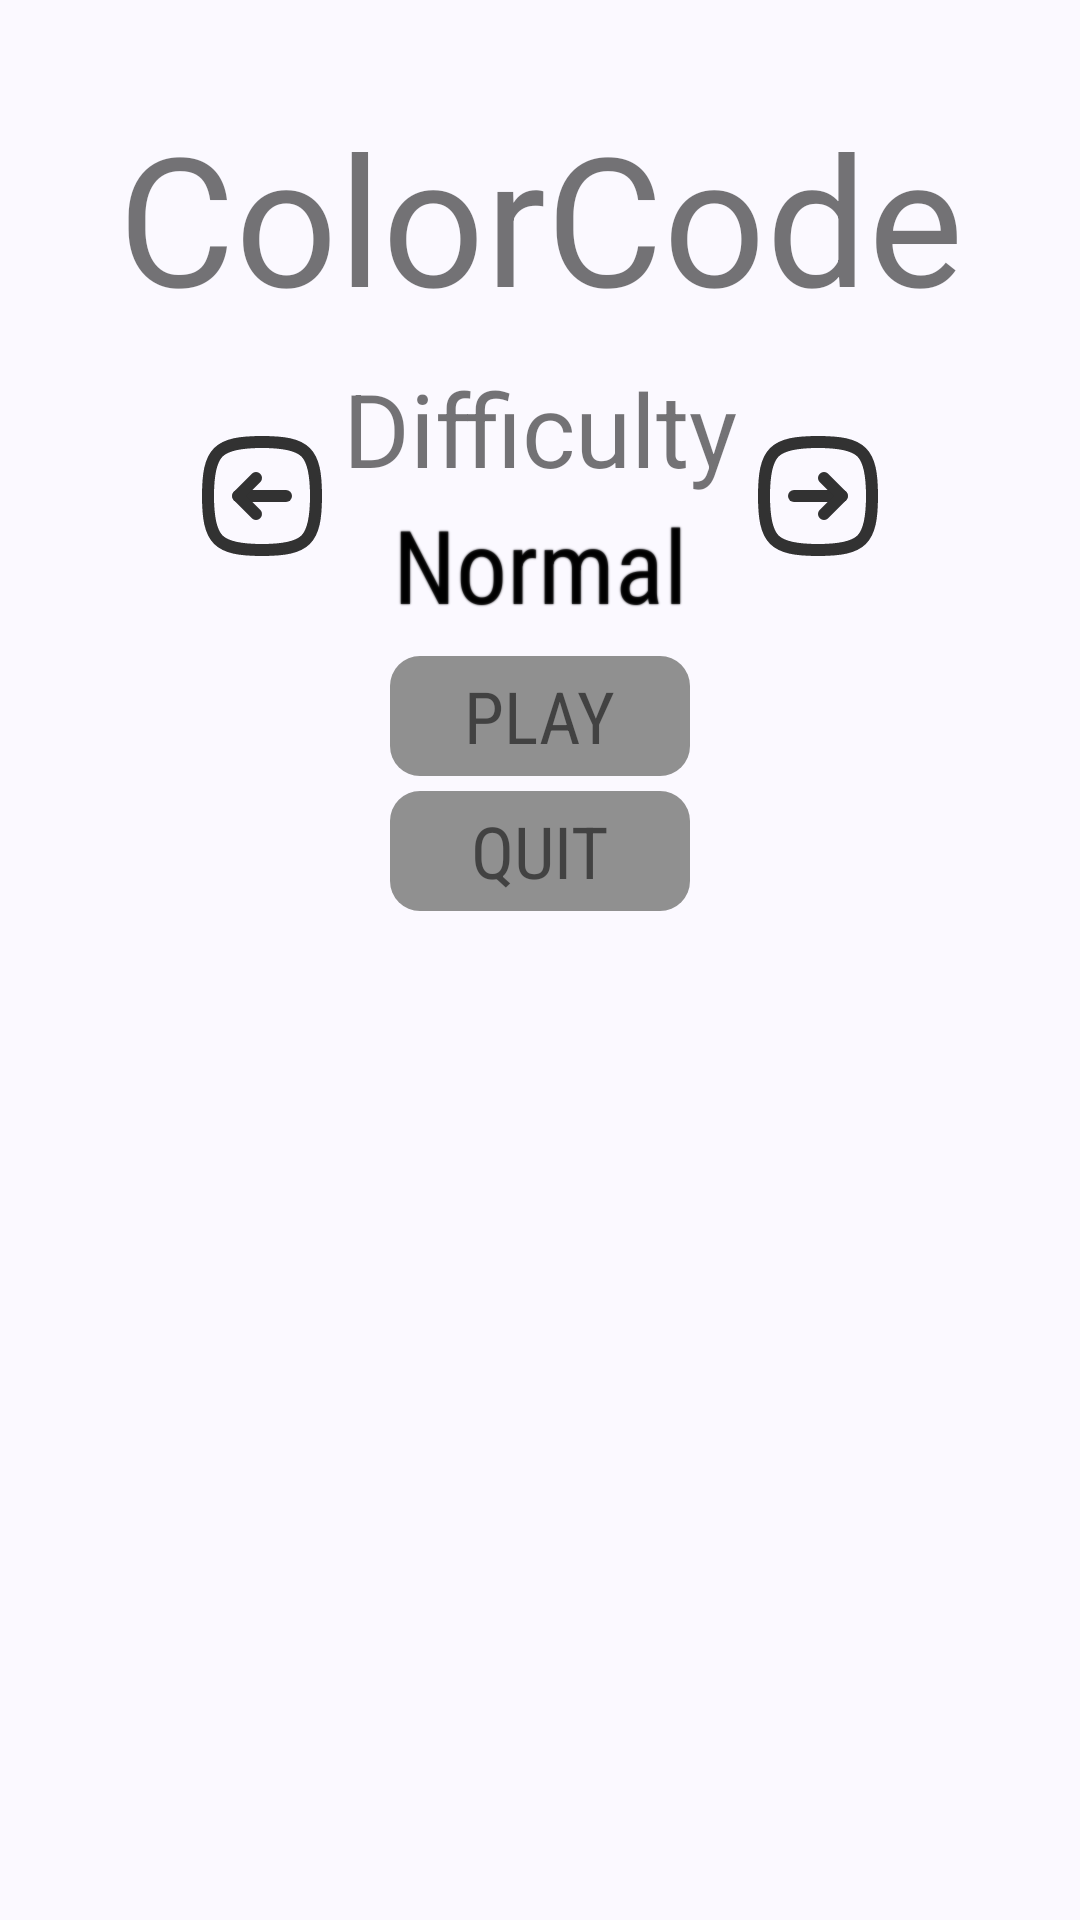

Where to tap for icons on this 1080x1920 app screen, as (x,y):
arrow left: (262,496)
arrow right: (818,496)
